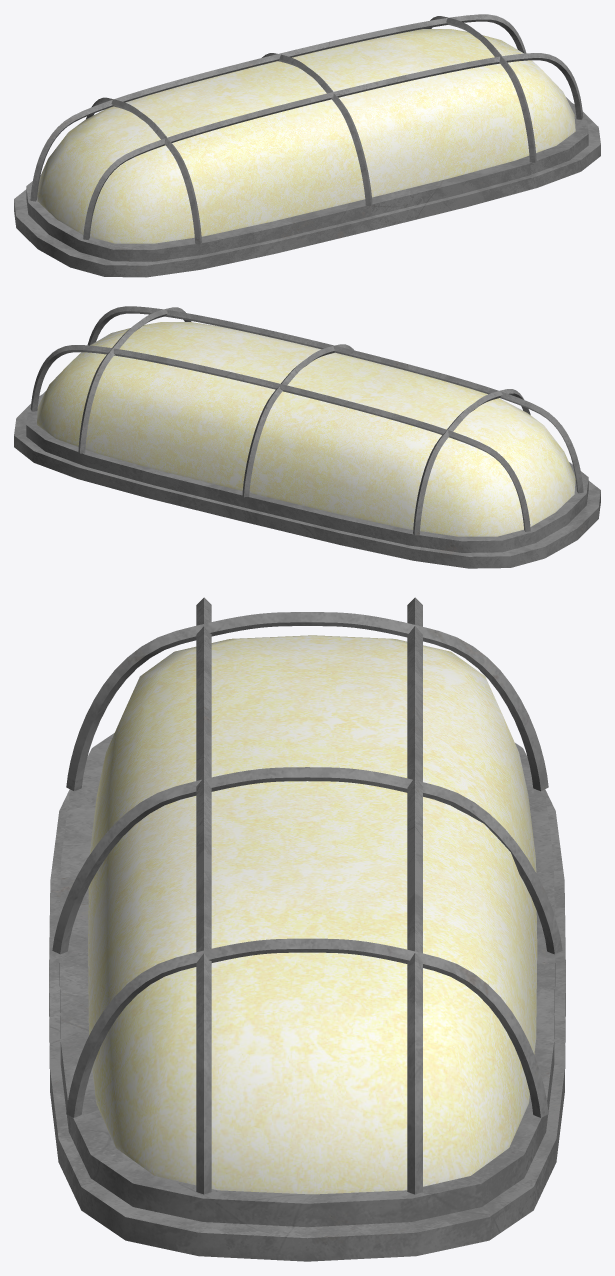
Rendered from luc.obj.
3 views of the same model, one above another, from view 1: azimuth 30°, elevation 25°; view 2: azimuth 150°, elevation 25°; view 3: azimuth 270°, elevation 25° (orthographic). The views are drawn at different scales.
Visible parts, largest first — view 1: luc_CUBezierCircle.001, baza_CUBezierCircle; view 2: luc_CUBezierCircle.001, baza_CUBezierCircle; view 3: luc_CUBezierCircle.001, baza_CUBezierCircle.
Boxes of the visible parts, x1=… form: luc_CUBezierCircle.001: x1=37, y1=29, x2=575, y2=243; baza_CUBezierCircle: x1=14, y1=14, x2=600, y2=277; luc_CUBezierCircle.001: x1=37, y1=322, x2=575, y2=536; baza_CUBezierCircle: x1=14, y1=306, x2=600, y2=568; luc_CUBezierCircle.001: x1=88, y1=635, x2=537, y2=1194; baza_CUBezierCircle: x1=49, y1=597, x2=565, y2=1261.
Bounding box in the file's own units: 0.4819 × 0.099 × 0.2.
Materials: 3 (3 with a texture image).
